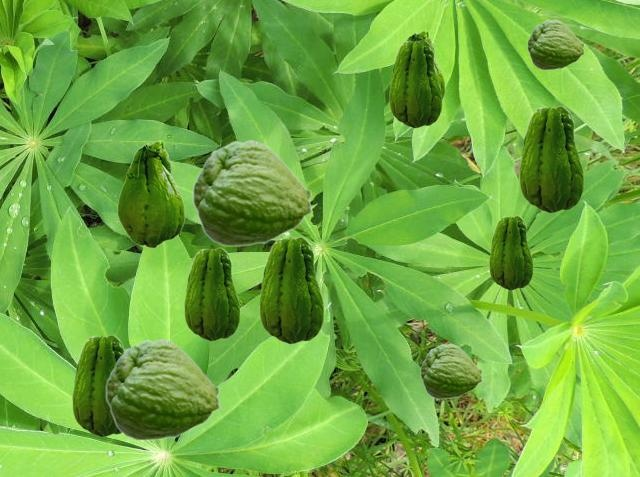sayote: (192, 139, 313, 246), (105, 338, 221, 440), (117, 140, 184, 247), (519, 105, 583, 212), (259, 236, 323, 343), (72, 334, 124, 436), (184, 247, 239, 340), (389, 39, 441, 127), (420, 343, 482, 398), (489, 215, 532, 289), (527, 19, 584, 69), (406, 30, 444, 103)
